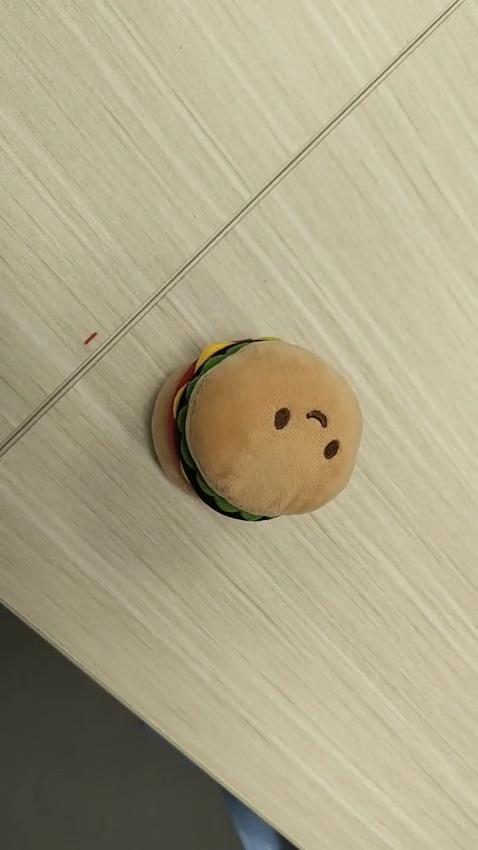hamburger: (150, 334, 363, 522)
